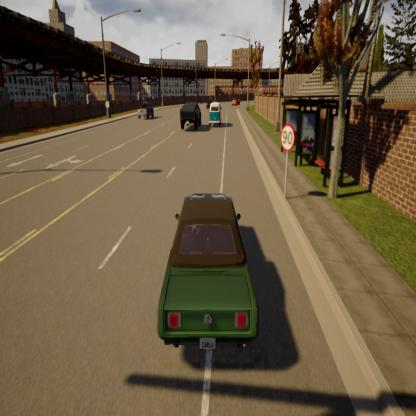Cars: (158, 194, 256, 352), (180, 103, 202, 128), (210, 100, 221, 128), (137, 102, 154, 119), (232, 95, 238, 107)
